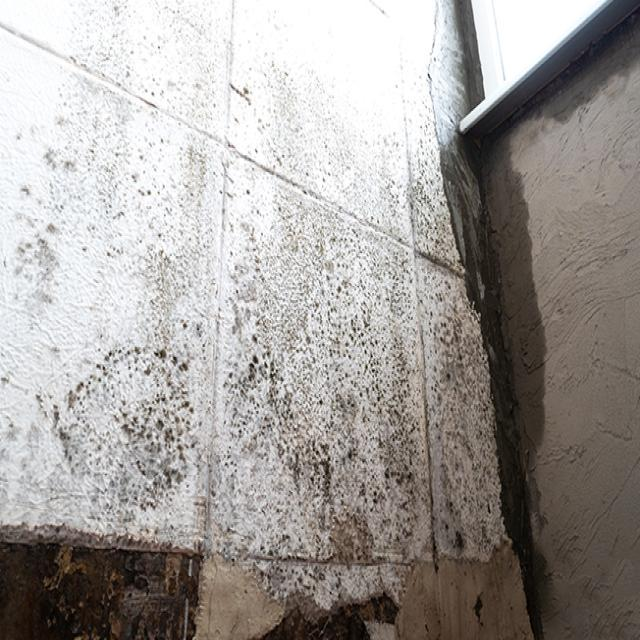stain_mould: (1, 4, 639, 639)
